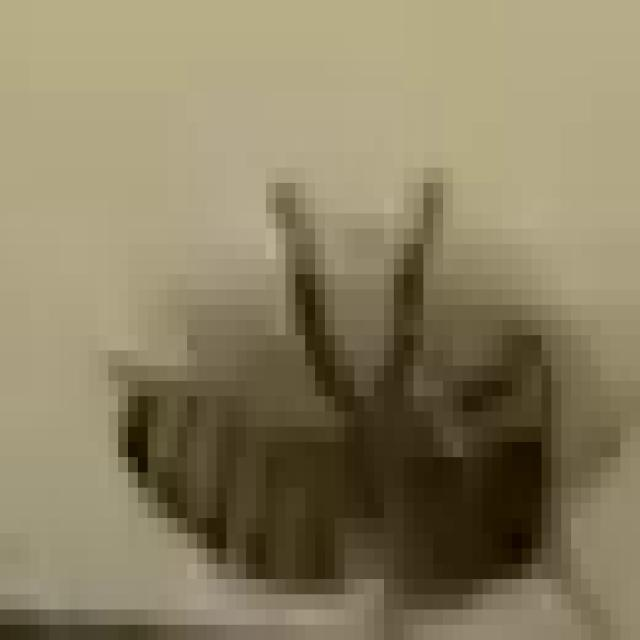honeybee: (105, 240, 600, 625)
